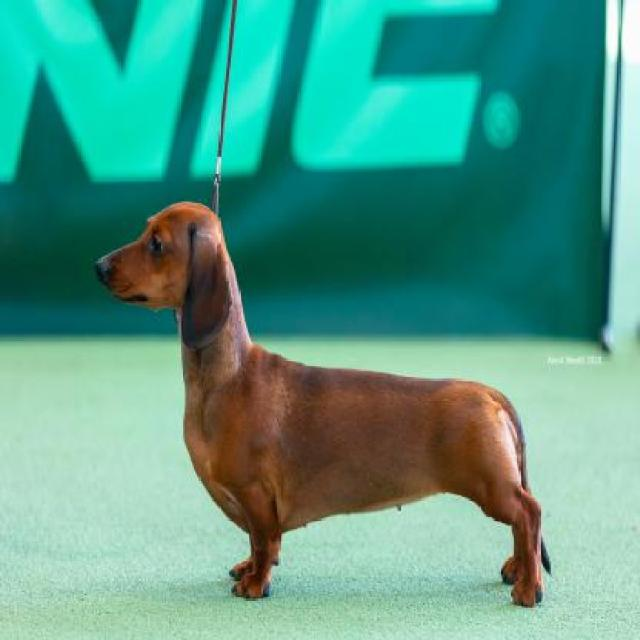Dog: (92, 203, 554, 608)
